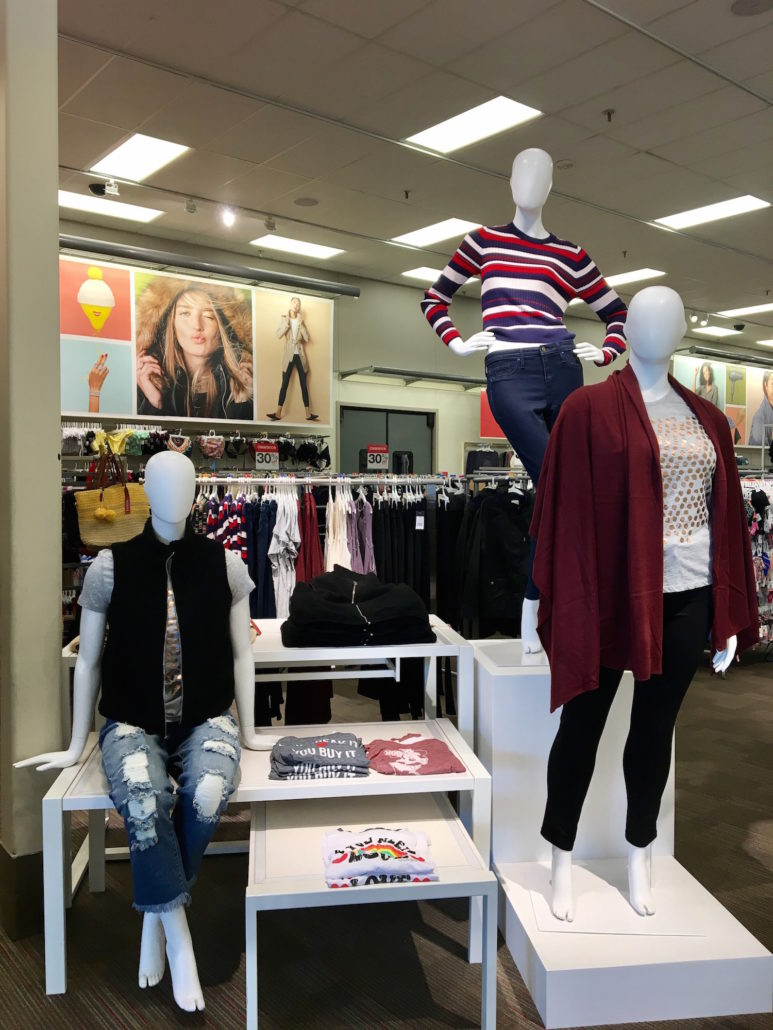person-like: (9, 444, 285, 1018), (521, 279, 761, 925), (414, 139, 634, 506)
